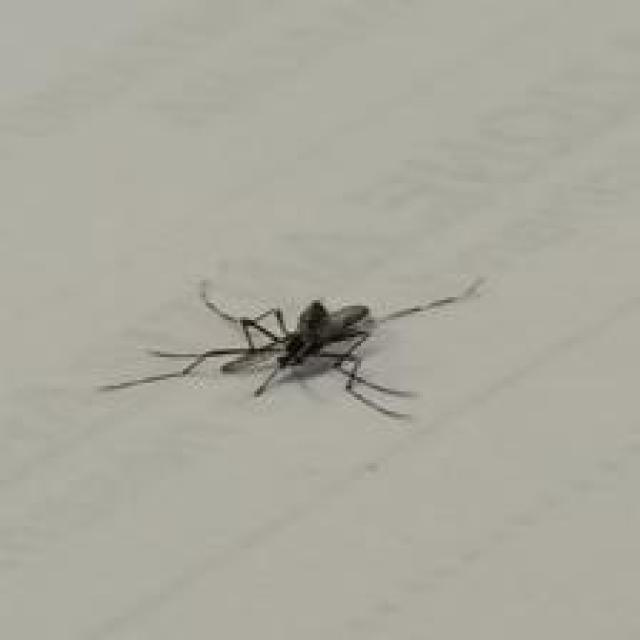Aedes albopictus: (97, 273, 486, 421)
